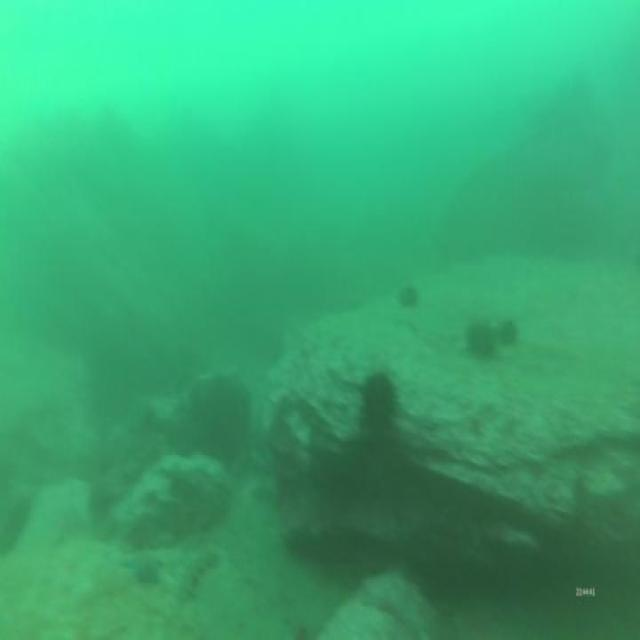echinus: (357, 365, 401, 446), (464, 318, 500, 362), (493, 311, 519, 354), (396, 280, 419, 310)
holothurian: (174, 539, 222, 613)
starfish: (116, 548, 169, 588)
